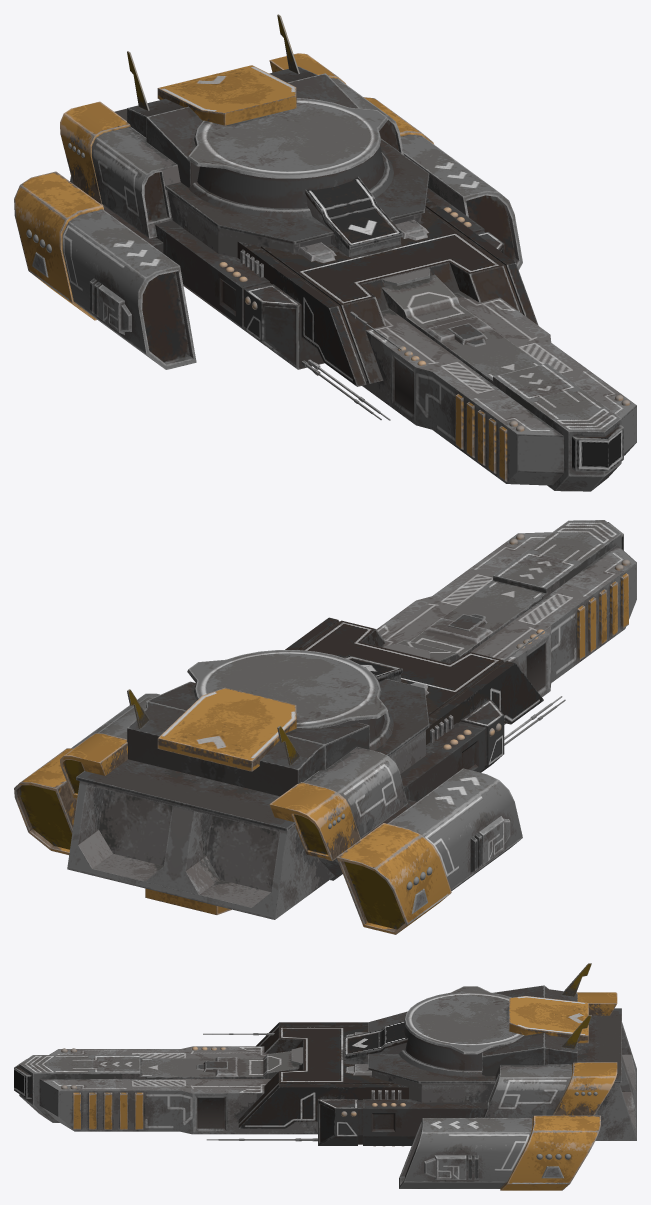
Rendered from kamikaze.glb.
3 renders of one model, top to bottom at view 1: azimuth 30°, elevation 25°; view 2: azimuth 150°, elevation 25°; view 3: azimuth 270°, elevation 25°, orthographic. The views are drawn at different scales.
Visible parts, largest first — view 1: Insurgent; view 2: Insurgent; view 3: Insurgent.
Part boxes in pixels (x1,y1,x2,y2): Insurgent: [14, 14, 636, 491]; Insurgent: [14, 520, 636, 934]; Insurgent: [14, 963, 636, 1190].
Bounding box in the file's own units: 5.57 × 2.87 × 10.95.
Materials: 1 (1 with a texture image).
